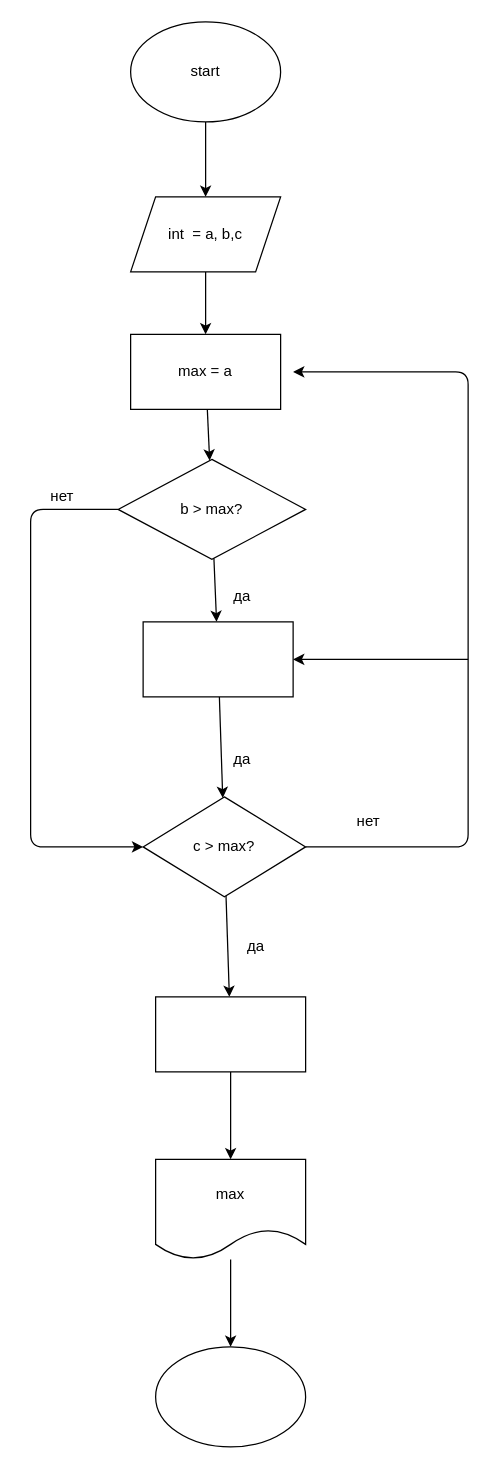
The diagram is 500 pixels wide and 1469 high, and some of its shapes have lost their labels. The centre of each missing label's shape, as x and y in pixels:
"end" goes at [230,1396].
"max = b" goes at [217,659].
"max = c" goes at [230,1034].
